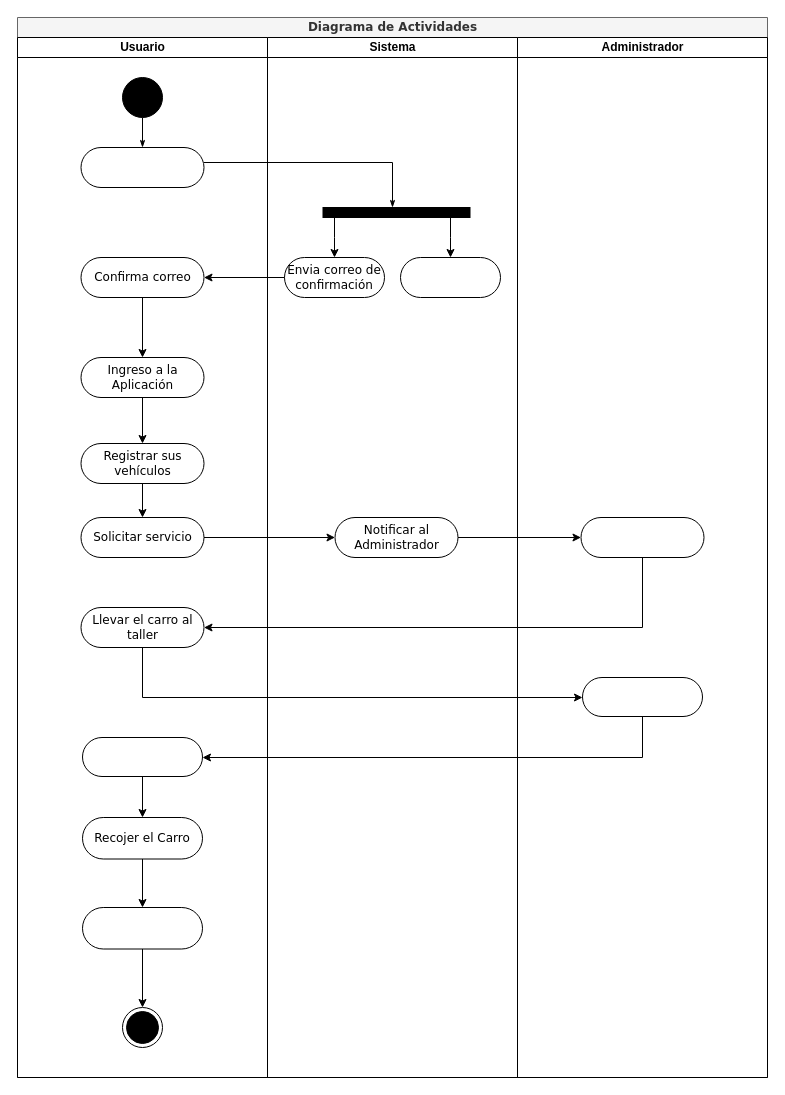
Image size: 785x1095. Some labels were removed from this diagram. Here are the shapes that lost their labels. From the top down, the box of each, then its label:
(80, 146, 204, 188): Registrarse
(400, 256, 500, 298): Autentica usuario
(580, 516, 704, 558): Confirmar la solicitud
(582, 676, 702, 716): Dar seguimiento al servicio
(82, 736, 202, 776): Ver el seguimiento
(82, 906, 202, 949): Calificar el servicio
